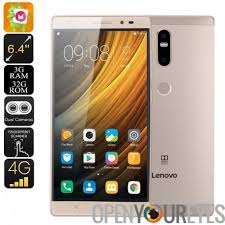lenovo: (46, 11, 154, 217), (149, 10, 217, 215)
